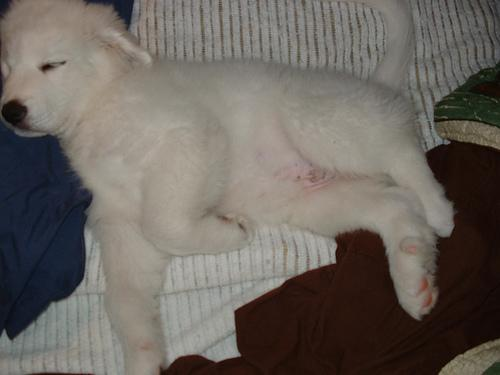Great_Pyrenees: (1, 0, 452, 374)
